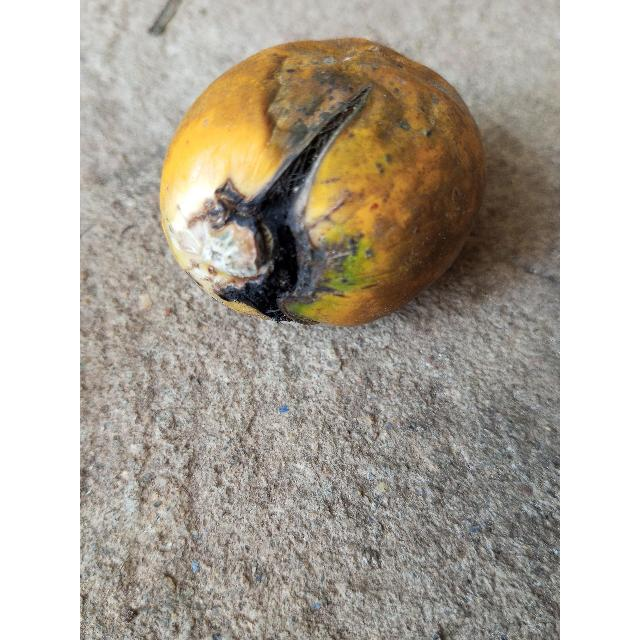damaged: (160, 39, 485, 326)
